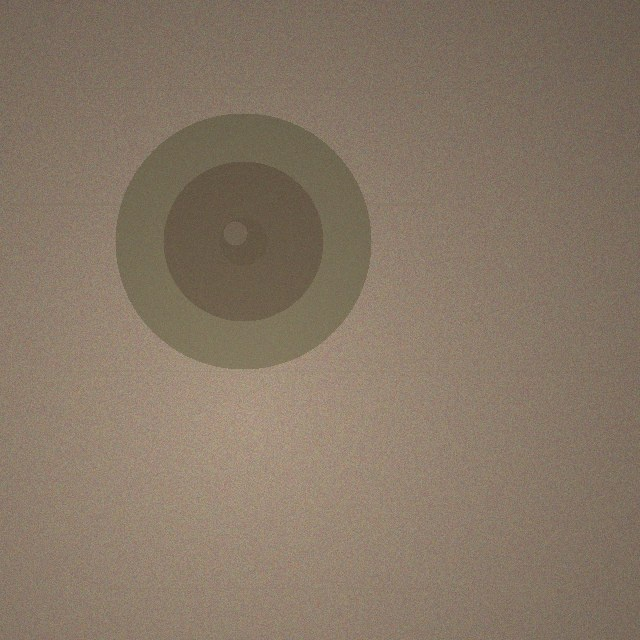good: (115, 113, 371, 369)
